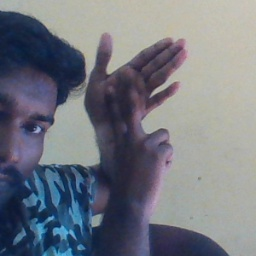N: (83, 30, 192, 169)
